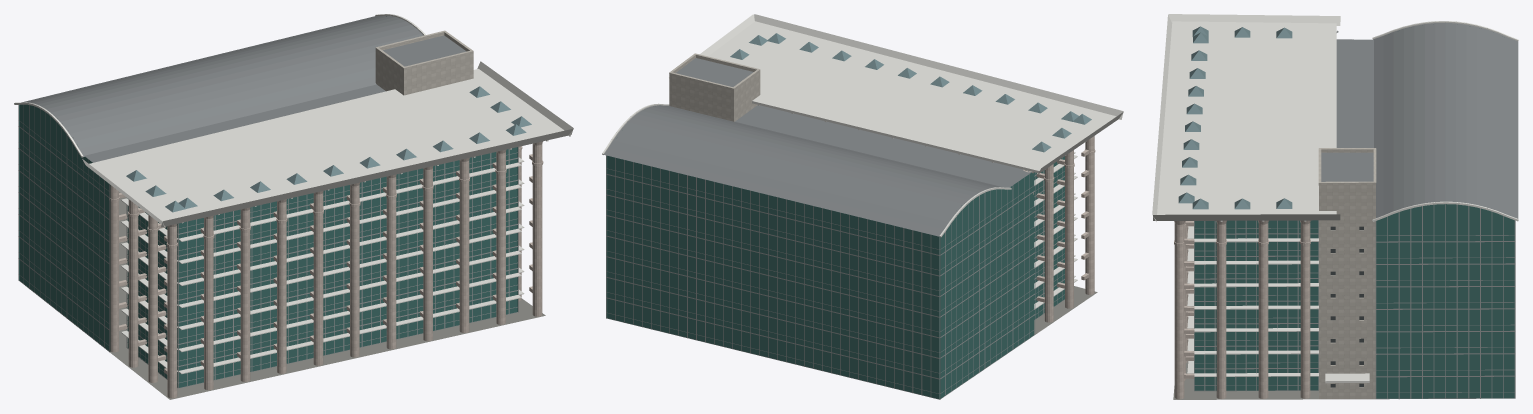
3 views of the same model, side by side, from view 1: azimuth 30°, elevation 25°; view 2: azimuth 150°, elevation 25°; view 3: azimuth 270°, elevation 25° (orthographic). The views are drawn at different scales.
Visible parts, largest first — view 1: anniversary600__glass, anniversary600__shade, anniversary600__column, anniversary600__roof, anniversary600__frame, anniversary600__slab, anniversary600__stone, anniversary600__glass_sky; view 2: anniversary600__glass, anniversary600__shade, anniversary600__roof, anniversary600__frame, anniversary600__column, anniversary600__stone, anniversary600__glass_sky, anniversary600__slab; view 3: anniversary600__glass, anniversary600__shade, anniversary600__roof, anniversary600__stone, anniversary600__frame, anniversary600__column, anniversary600__glass_sky, anniversary600__slab, anniversary600__glass_dark.
Boxes of the visible parts, left/top/right/bottom form: anniversary600__glass: left=19, top=16, right=517, bottom=387; anniversary600__shade: left=14, top=14, right=573, bottom=374; anniversary600__column: left=109, top=141, right=543, bottom=398; anniversary600__roof: left=21, top=15, right=466, bottom=162; anniversary600__frame: left=18, top=105, right=518, bottom=388; anniversary600__slab: left=21, top=192, right=545, bottom=399; anniversary600__stone: left=375, top=30, right=473, bottom=95; anniversary600__glass_sky: left=126, top=86, right=531, bottom=212; anniversary600__glass: left=606, top=105, right=1064, bottom=398; anniversary600__shade: left=602, top=14, right=1123, bottom=309; anniversary600__roof: left=604, top=58, right=1031, bottom=236; anniversary600__frame: left=606, top=155, right=1064, bottom=399; anniversary600__column: left=1023, top=136, right=1095, bottom=322; anniversary600__stone: left=669, top=53, right=760, bottom=121; anniversary600__glass_sky: left=730, top=33, right=1091, bottom=152; anniversary600__slab: left=1034, top=286, right=1097, bottom=334; anniversary600__glass: left=1194, top=204, right=1514, bottom=398; anniversary600__shade: left=1152, top=14, right=1518, bottom=383; anniversary600__roof: left=1321, top=22, right=1518, bottom=218; anniversary600__stone: left=1318, top=148, right=1376, bottom=399; anniversary600__frame: left=1194, top=30, right=1515, bottom=399; anniversary600__column: left=1174, top=220, right=1310, bottom=399; anniversary600__glass_sky: left=1178, top=26, right=1292, bottom=209; anniversary600__slab: left=1173, top=361, right=1318, bottom=399; anniversary600__glass_dark: left=1330, top=226, right=1363, bottom=387.
Size of the model in its own units: 74.83 by 37.62 by 57.72.
Materials: 9 (2 with a texture image).
